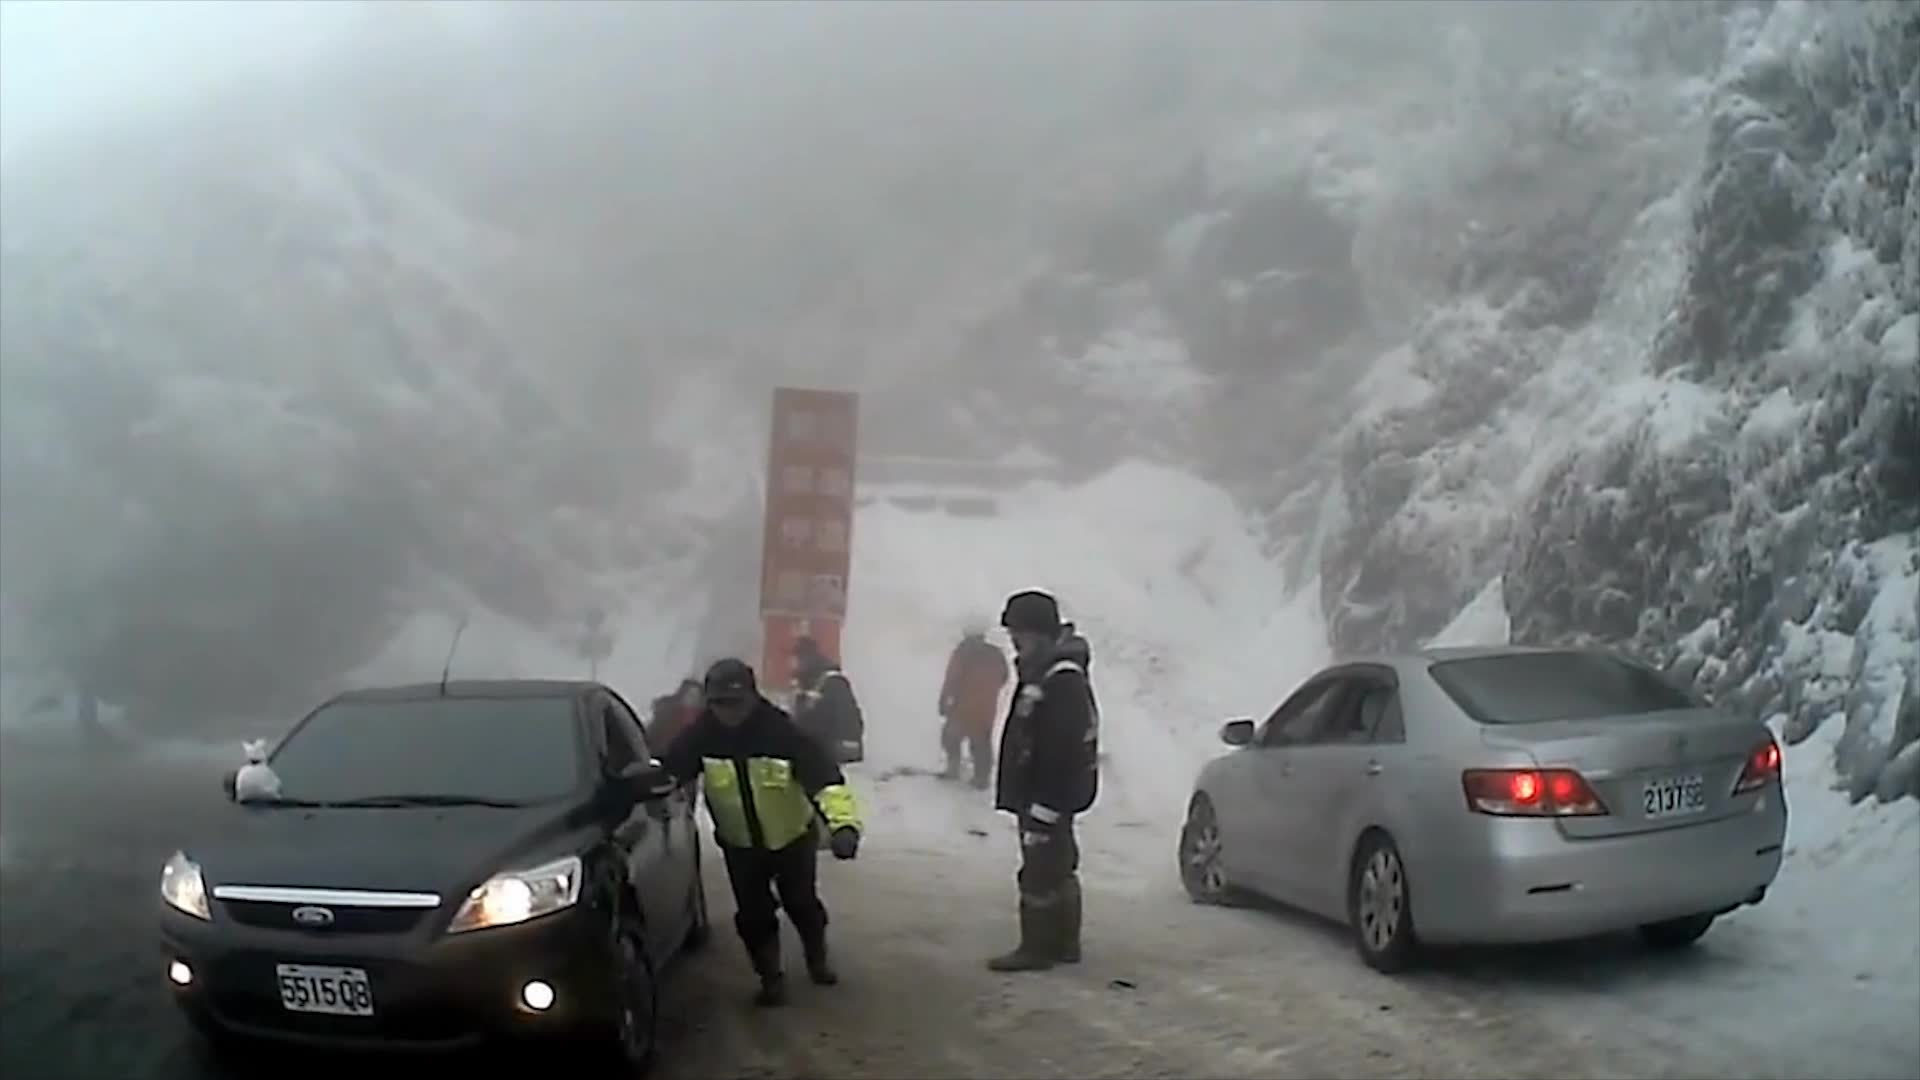pedestrian: (646, 657, 869, 1002), (987, 590, 1103, 978), (782, 637, 865, 858), (635, 674, 719, 860), (936, 606, 1012, 788)
vehicle: (154, 676, 711, 1075), (1171, 643, 1789, 975)
